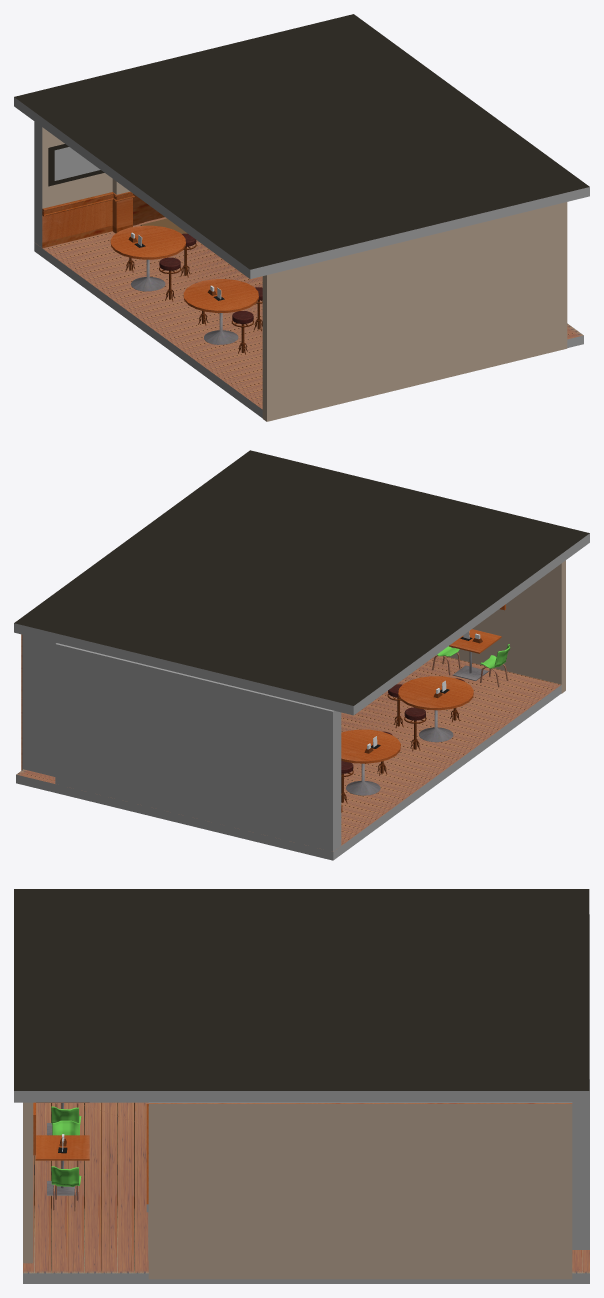
File: cafe.glb
3 views of the same model, one above another, from view 1: azimuth 30°, elevation 25°; view 2: azimuth 150°, elevation 25°; view 3: azimuth 270°, elevation 25° (orthographic). The views are drawn at different scales.
Visible parts, largest first — view 1: pCube100, pCube147, pCube216, pCube92, pCylinder45, pCylinder112, pCube93; view 2: pCube100, pCube92, pCube216, pCube147, pCube10, pCylinder112, pCylinder45, pCube215; view 3: pCube100, pCube10, pCube216, pCube92, pCube147, pCube140, polySurface48.
Boxes of the visible parts, x1,y1,x2,y2 form: pCube100: (14,14,589,279); pCube147: (262,202,567,421); pCube216: (34,217,583,417); pCube92: (34,121,164,248); pCylinder45: (110,225,185,291); pCylinder112: (183,279,258,344); pCube93: (48,144,104,186); pCube100: (14,450,589,715); pCube92: (55,643,342,851); pCube216: (16,655,561,860); pCube147: (446,560,565,693); pCube10: (21,634,56,776); pCylinder112: (398,676,473,742); pCylinder45: (341,729,400,795); pCube215: (449,629,501,680); pCube100: (14,889,589,1102); pCube10: (148,1102,572,1279); pCube216: (23,1102,589,1283); pCube92: (572,914,589,1249); pCube147: (23,1102,33,1263); pCube140: (35,1135,89,1195); polySurface48: (51,1166,81,1211).
Bounding box in the file's own units: 1.12 × 0.5052 × 1.35.
Materials: 24 (9 with a texture image).
